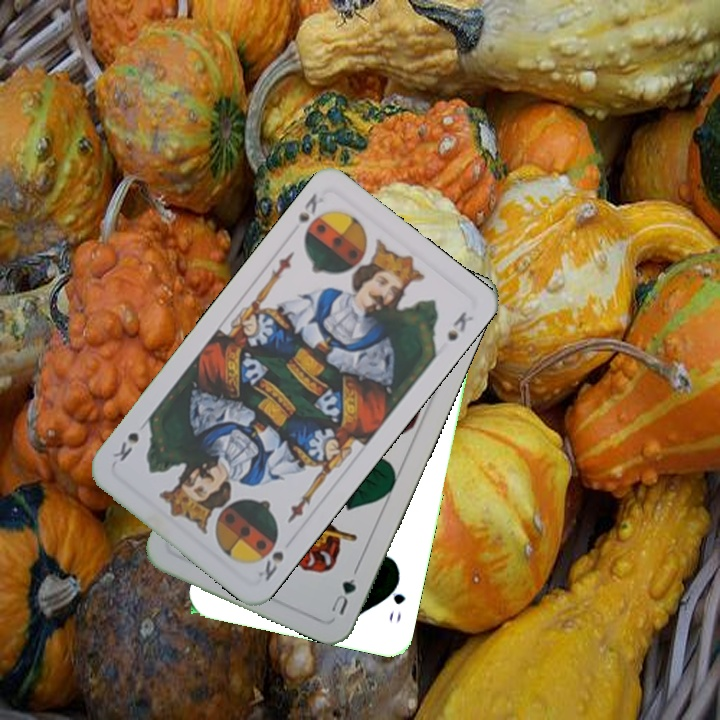GO: (385, 572, 408, 625)
GU: (327, 574, 359, 618)
SK: (253, 547, 287, 584), (293, 189, 326, 227)
